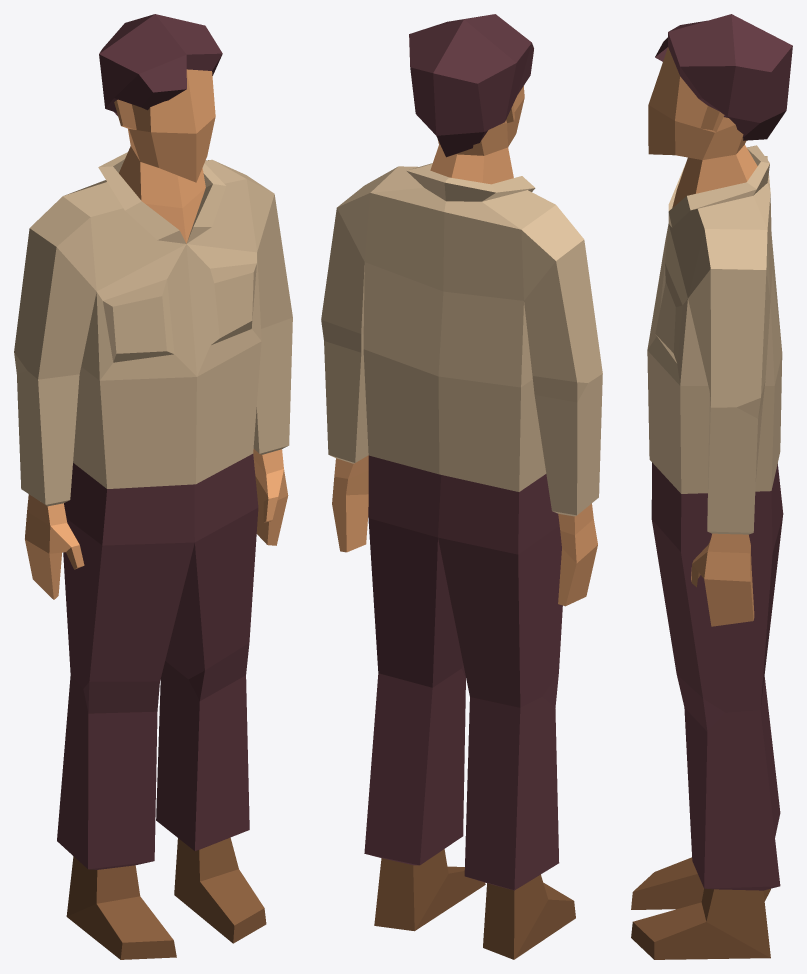
The model's file is man-explorer.fbx.
3 renders of one model, left to right at view 1: azimuth 30°, elevation 25°; view 2: azimuth 150°, elevation 25°; view 3: azimuth 270°, elevation 25°, orthographic.
Parts seen in each view (by area): view 1: man-explorer; view 2: man-explorer; view 3: man-explorer.
Boxes of the visible parts, <box> form: man-explorer: <box>14,14,292,959</box>; man-explorer: <box>321,14,602,959</box>; man-explorer: <box>631,14,792,959</box>.
Bounding box in the file's own units: 0.5438 × 1.84 × 0.296.
